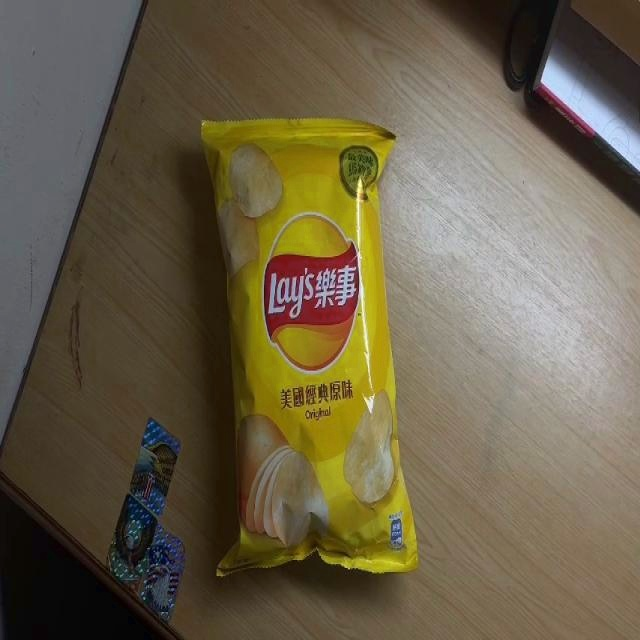Lay-s-original: (199, 116, 420, 583)
